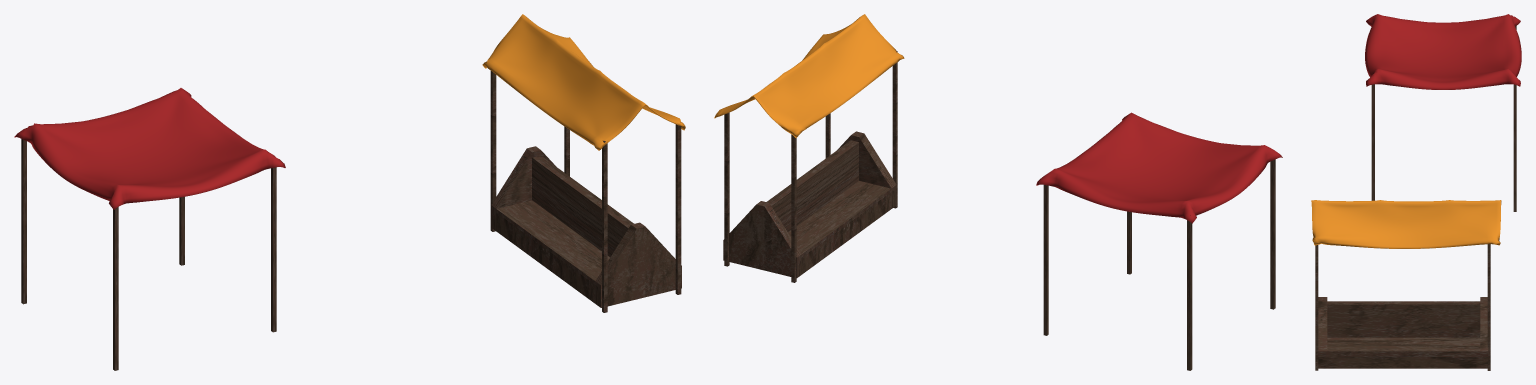
File: TEXTURED 2 tarps.fbx
3 renders of one model, left to right at view 1: azimuth 30°, elevation 25°; view 2: azimuth 150°, elevation 25°; view 3: azimuth 270°, elevation 25°, orthographic. The views are drawn at different scales.
Visible parts, largest first — view 1: Cube.002, Plane.009; view 2: Cube.002, Plane.009; view 3: Cube.002, Plane.009.
Part boxes in pixels (box(x1,y1,x2,y2)): Cube.002: box(482, 14, 685, 312); Plane.009: box(14, 88, 285, 370); Cube.002: box(714, 14, 904, 282); Plane.009: box(1036, 112, 1282, 370); Cube.002: box(1311, 200, 1501, 370); Plane.009: box(1365, 14, 1521, 211).
Bounding box in the file's own units: 1339 × 582 × 488.
3 materials, 1 textured.
